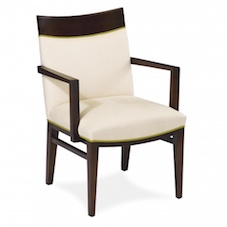chair: (22, 2, 190, 221)
